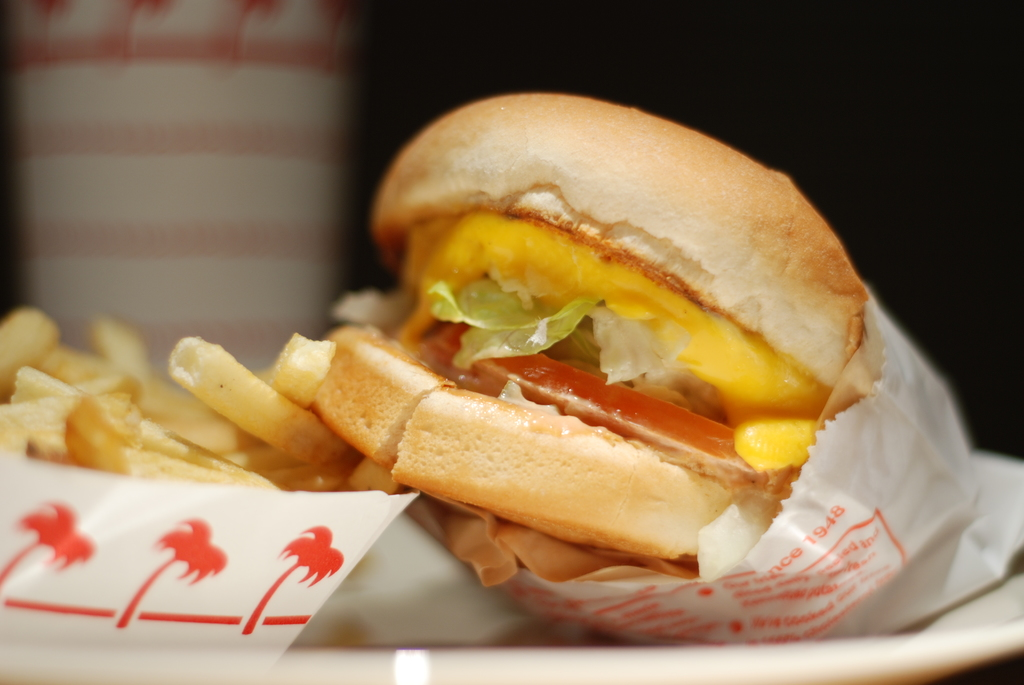French fries: (12, 293, 520, 513)
